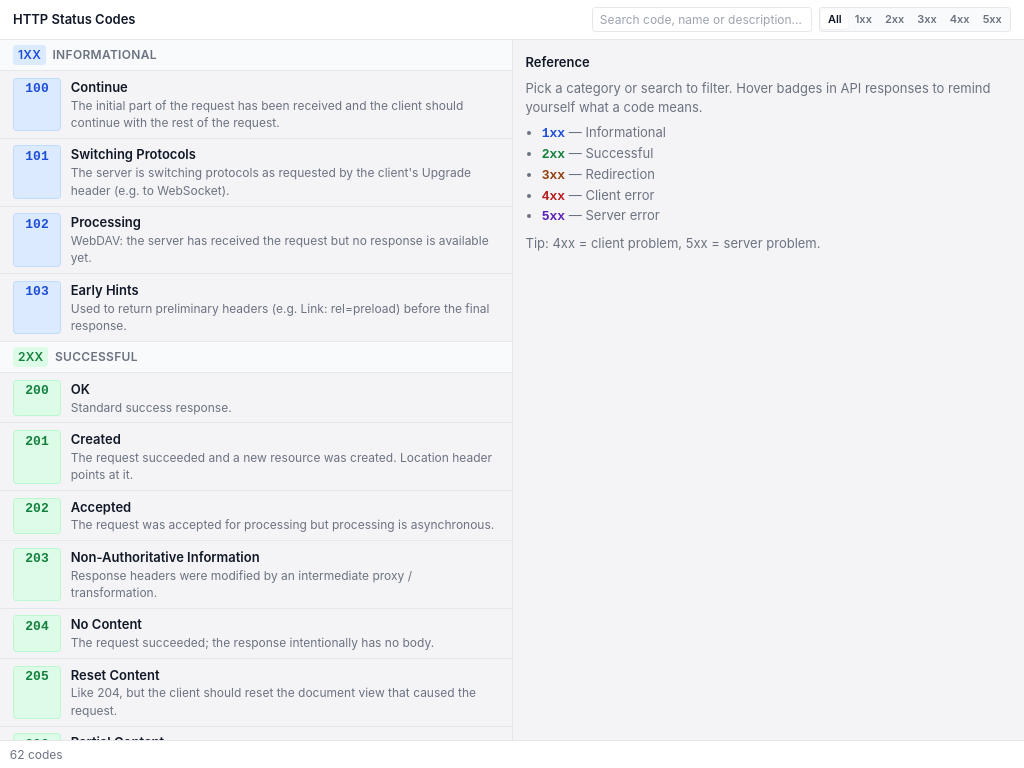
Test: EN guard: unchanged › EN search by English text and number still works
Type "not found" into the field with placeholder "Search code, name or description…". click: [702, 19]
box: left=592, top=6, right=812, bottom=32
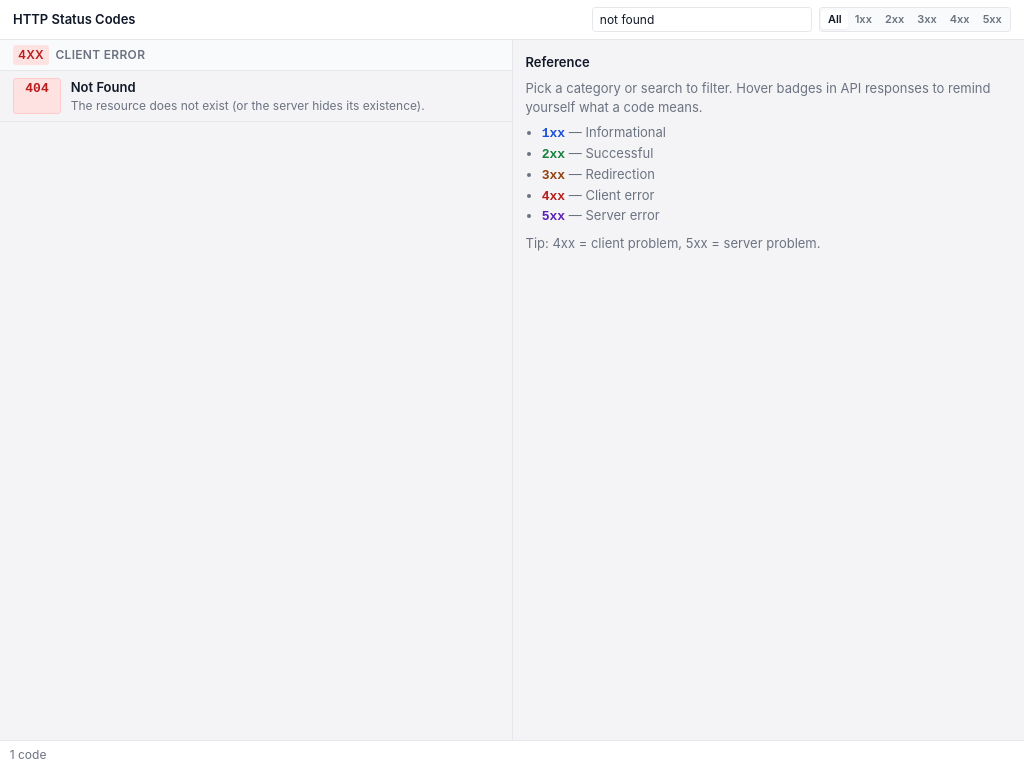
Expected: the element with test id "http-status-row-404" is shown, left=0, top=71, right=512, bottom=122
Expected: the element with test id "http-status-row-200" is gone
Replace the text in the field with placeholder "Search code, name or description…" with "200". click: [702, 19]
box: left=592, top=6, right=812, bottom=32
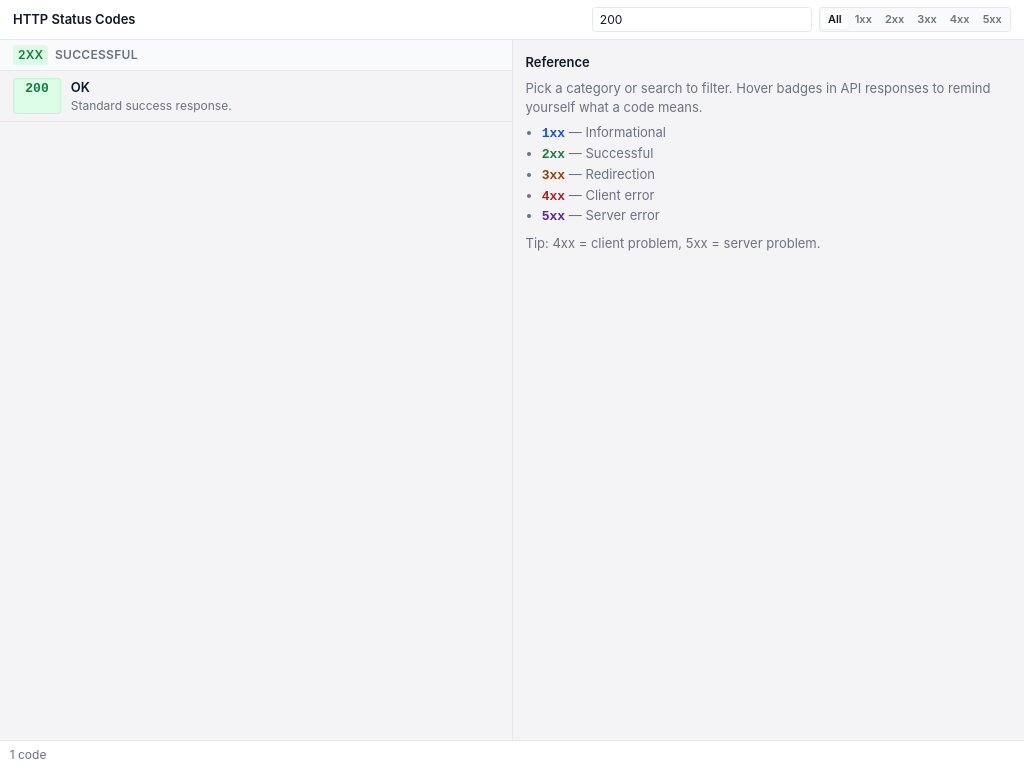
Expected: the element with test id "http-status-row-200" is shown, left=0, top=71, right=512, bottom=122
